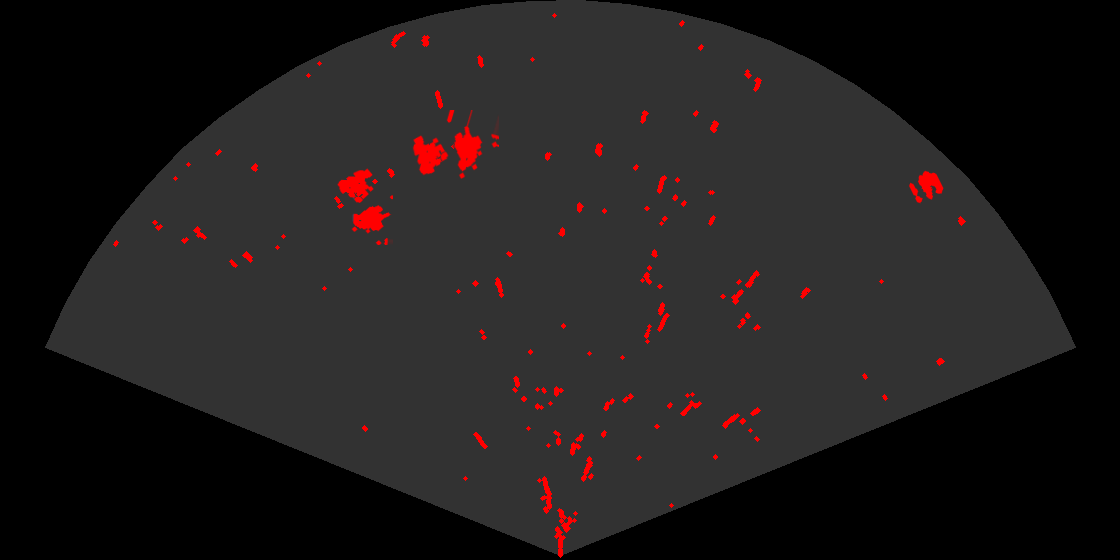ball: (907, 169, 945, 205)
cage: (411, 110, 499, 180), (336, 167, 393, 245)
